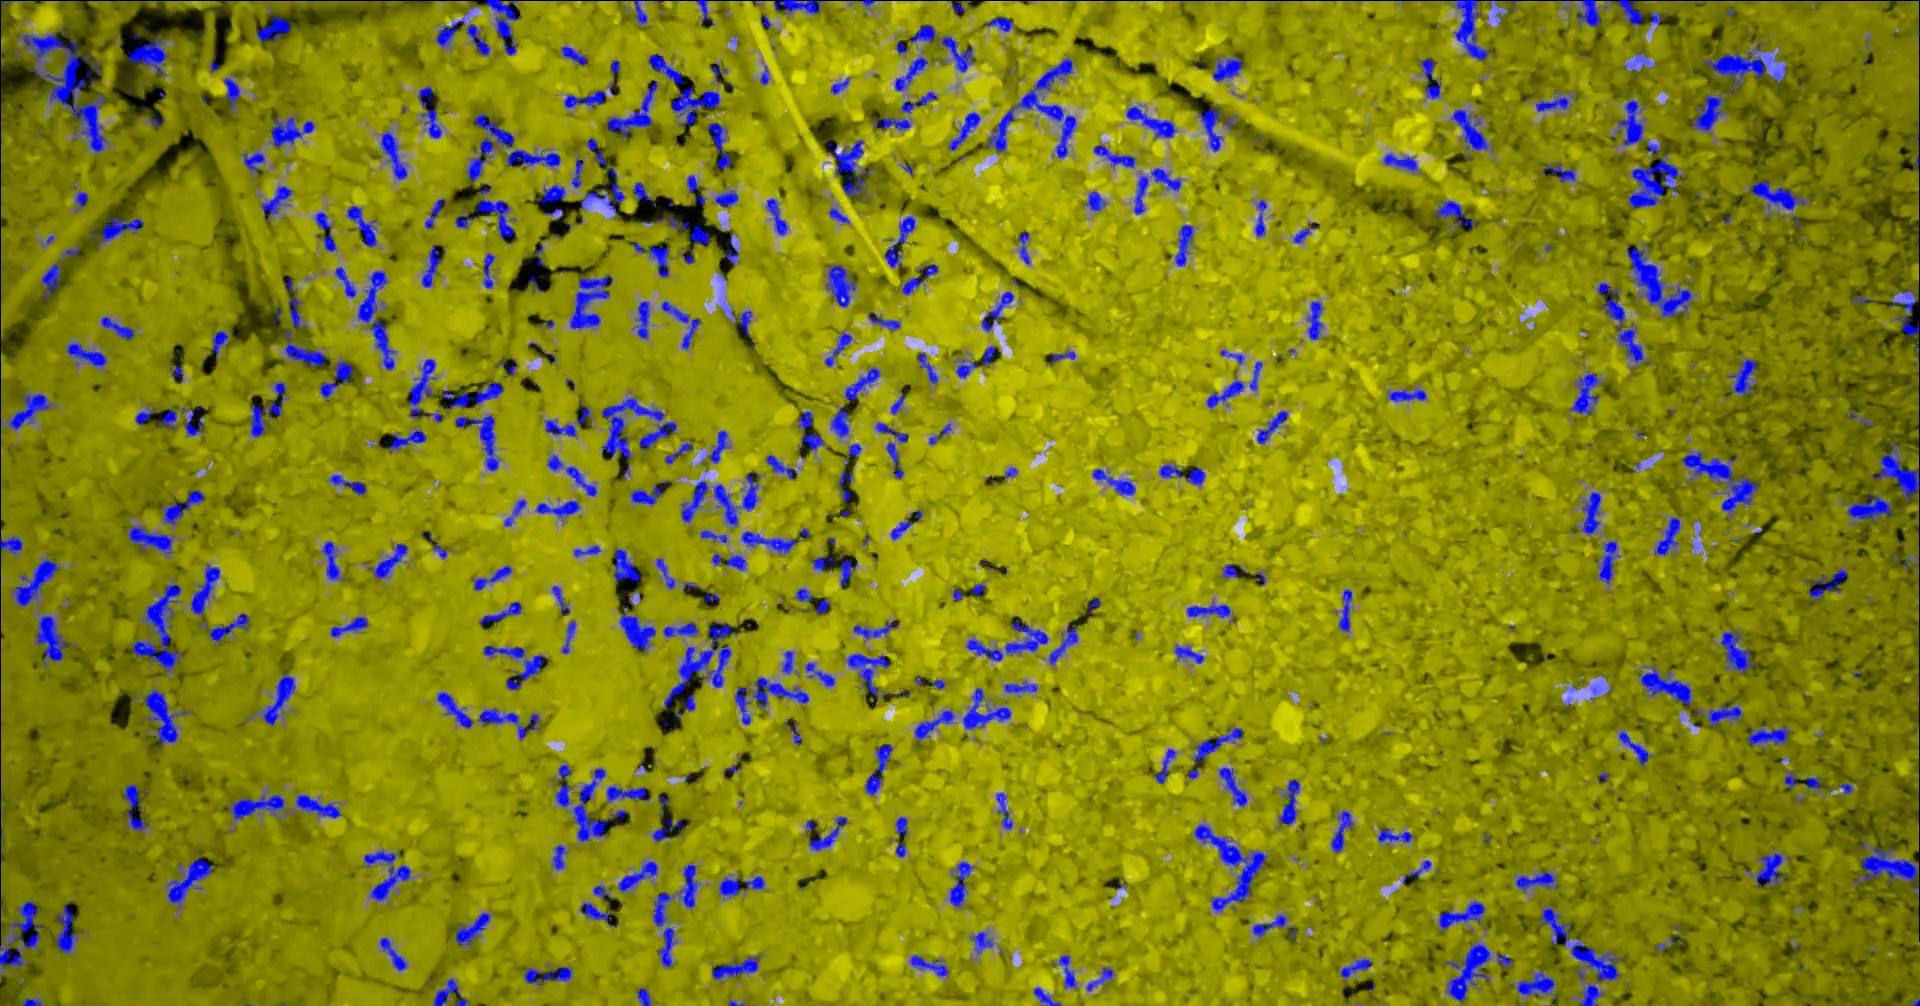ant: (1596, 282, 1650, 365), (965, 619, 1048, 661), (580, 137, 623, 215), (823, 138, 872, 201), (604, 79, 657, 136), (1870, 441, 1919, 500), (651, 864, 697, 926), (1187, 727, 1242, 779), (483, 645, 547, 688), (143, 688, 189, 746), (1453, 0, 1493, 60), (455, 414, 498, 470), (11, 558, 62, 605), (363, 850, 410, 901), (1749, 180, 1810, 218), (1570, 937, 1622, 982), (251, 673, 295, 725), (168, 857, 215, 904), (846, 653, 889, 702), (408, 358, 442, 420), (1638, 666, 1691, 705), (670, 86, 719, 130), (483, 0, 521, 55), (643, 216, 709, 246), (250, 381, 286, 437), (660, 300, 700, 349), (477, 708, 538, 739), (963, 687, 1010, 728), (1125, 104, 1176, 138), (883, 215, 916, 267), (126, 34, 168, 75), (752, 677, 808, 708), (283, 330, 329, 367), (618, 607, 655, 652), (441, 382, 502, 409), (543, 401, 590, 436), (1890, 281, 1919, 335), (8, 392, 51, 429), (1719, 630, 1756, 673), (1450, 109, 1488, 150), (36, 615, 66, 666), (160, 490, 204, 525), (367, 542, 408, 579), (1570, 371, 1603, 415), (190, 563, 218, 615), (476, 199, 514, 238), (1808, 568, 1848, 605), (1538, 904, 1572, 946), (97, 216, 143, 246), (1437, 901, 1484, 931), (863, 744, 891, 795), (229, 794, 284, 819), (1848, 493, 1892, 525), (1745, 852, 1785, 887), (380, 130, 408, 179), (319, 359, 352, 401), (270, 116, 314, 147), (436, 691, 472, 728), (199, 614, 248, 641), (808, 815, 846, 850), (1617, 99, 1644, 145), (1432, 199, 1474, 230), (345, 205, 376, 246), (1617, 728, 1651, 765), (825, 264, 855, 307), (1048, 621, 1077, 664), (711, 954, 761, 979), (982, 291, 1013, 330), (914, 709, 954, 741), (617, 860, 657, 892), (1091, 467, 1135, 495), (127, 526, 171, 554), (742, 531, 799, 553), (632, 243, 668, 277), (940, 36, 973, 72), (1691, 94, 1724, 131), (1511, 969, 1554, 997), (707, 122, 731, 171), (949, 860, 974, 907), (418, 86, 441, 138), (455, 912, 490, 945), (681, 480, 709, 522), (1693, 702, 1741, 727), (949, 112, 979, 150), (1218, 767, 1247, 807), (123, 784, 147, 831), (894, 56, 927, 90), (844, 367, 879, 400), (902, 263, 937, 295), (262, 185, 292, 222), (797, 412, 824, 453), (295, 794, 340, 818), (55, 904, 77, 953), (66, 340, 105, 368), (648, 53, 683, 84), (1727, 359, 1757, 395), (1206, 379, 1244, 406), (1256, 410, 1288, 443), (1197, 108, 1222, 151), (284, 276, 305, 326), (1746, 723, 1790, 746), (1277, 779, 1299, 826), (712, 483, 737, 525), (255, 10, 290, 39), (1655, 516, 1680, 555), (1577, 967, 1603, 1005), (378, 937, 408, 970), (852, 619, 897, 640), (824, 332, 852, 366), (479, 601, 521, 624), (1330, 810, 1352, 852), (717, 875, 764, 895), (579, 902, 618, 926), (433, 978, 469, 1005), (1605, 0, 1642, 25), (1159, 464, 1205, 484), (565, 465, 596, 495), (535, 500, 580, 521), (890, 509, 922, 539), (613, 547, 641, 580), (472, 565, 510, 589), (1093, 145, 1135, 166), (1418, 58, 1440, 99), (1599, 540, 1619, 583), (523, 967, 571, 984), (1515, 870, 1557, 890), (321, 541, 343, 580), (909, 954, 949, 976), (1251, 913, 1288, 936), (1211, 55, 1242, 81), (764, 453, 796, 479), (563, 89, 604, 108), (1581, 492, 1600, 533), (900, 91, 937, 113), (389, 429, 425, 451), (100, 316, 135, 339), (436, 19, 463, 47), (422, 246, 441, 287), (329, 616, 367, 636), (766, 198, 787, 234), (651, 817, 683, 841), (1053, 954, 1076, 987), (41, 262, 60, 301), (657, 927, 676, 967), (328, 474, 364, 494), (1175, 224, 1192, 265), (1154, 748, 1176, 782), (1150, 166, 1181, 191), (604, 785, 649, 801), (466, 23, 489, 55), (709, 431, 730, 464), (555, 763, 571, 807), (182, 406, 207, 434), (805, 662, 834, 686), (1402, 859, 1431, 883), (773, 0, 823, 14), (334, 265, 356, 297), (1305, 301, 1323, 339), (742, 473, 759, 511), (1186, 602, 1230, 617), (829, 406, 850, 439), (1383, 152, 1417, 171), (1575, 0, 1600, 25), (917, 352, 937, 384), (875, 422, 907, 442), (1340, 958, 1371, 978), (1784, 772, 1820, 790), (630, 485, 663, 504), (734, 686, 750, 724), (1086, 967, 1112, 989), (886, 441, 903, 478), (996, 793, 1012, 829), (664, 442, 692, 464), (424, 198, 444, 227), (839, 553, 857, 586), (1133, 175, 1148, 213), (655, 558, 674, 588), (503, 499, 524, 526), (1907, 121, 1919, 170), (867, 312, 899, 330), (1387, 387, 1426, 401), (729, 310, 750, 335), (1338, 589, 1351, 633), (1542, 165, 1575, 182), (538, 184, 565, 205), (635, 301, 649, 339), (1175, 644, 1203, 663), (560, 619, 575, 653), (1377, 828, 1411, 843), (1293, 221, 1317, 243), (551, 586, 569, 615), (1032, 987, 1062, 1005), (560, 44, 585, 65), (872, 116, 909, 130), (662, 622, 698, 636), (223, 77, 239, 111), (928, 423, 951, 445), (970, 931, 993, 953), (723, 234, 738, 265), (955, 359, 980, 379), (243, 152, 264, 174), (837, 470, 852, 500), (1535, 97, 1568, 111), (910, 24, 935, 43), (695, 0, 712, 25), (1084, 191, 1106, 211), (0, 535, 22, 555), (211, 330, 229, 354), (1255, 199, 1266, 236), (483, 251, 494, 288), (135, 406, 157, 424), (1003, 681, 1037, 692), (700, 528, 728, 542), (157, 409, 177, 429), (1222, 563, 1247, 578), (455, 211, 477, 227), (985, 17, 1012, 30), (1046, 351, 1076, 363), (1250, 361, 1262, 390), (714, 191, 738, 206), (710, 62, 728, 83), (890, 389, 904, 414), (551, 843, 565, 869), (811, 556, 834, 572), (632, 182, 651, 199), (74, 187, 88, 211), (1219, 349, 1243, 363), (844, 443, 861, 464), (725, 554, 745, 570), (571, 158, 583, 187), (828, 208, 850, 224), (592, 885, 613, 901), (632, 0, 646, 23), (1848, 412, 1870, 426), (314, 211, 331, 229), (320, 232, 337, 251), (982, 345, 998, 365), (1018, 232, 1029, 263), (573, 545, 599, 556), (830, 77, 850, 93), (789, 721, 801, 744), (546, 453, 563, 470), (1770, 65, 1785, 83), (1495, 951, 1512, 967), (636, 987, 651, 1005), (432, 539, 446, 558), (781, 650, 792, 673), (895, 815, 907, 837), (1650, 11, 1669, 24), (950, 0, 965, 15), (686, 174, 698, 192), (61, 245, 79, 258), (171, 365, 183, 384), (815, 598, 829, 614), (795, 588, 811, 601), (971, 583, 985, 597), (1850, 295, 1872, 304), (684, 692, 695, 710), (535, 243, 542, 265), (1636, 50, 1646, 66), (1646, 141, 1660, 152), (1837, 782, 1851, 794), (759, 66, 768, 84), (22, 997, 42, 1005), (703, 592, 717, 602), (895, 843, 905, 857), (610, 58, 618, 72)
